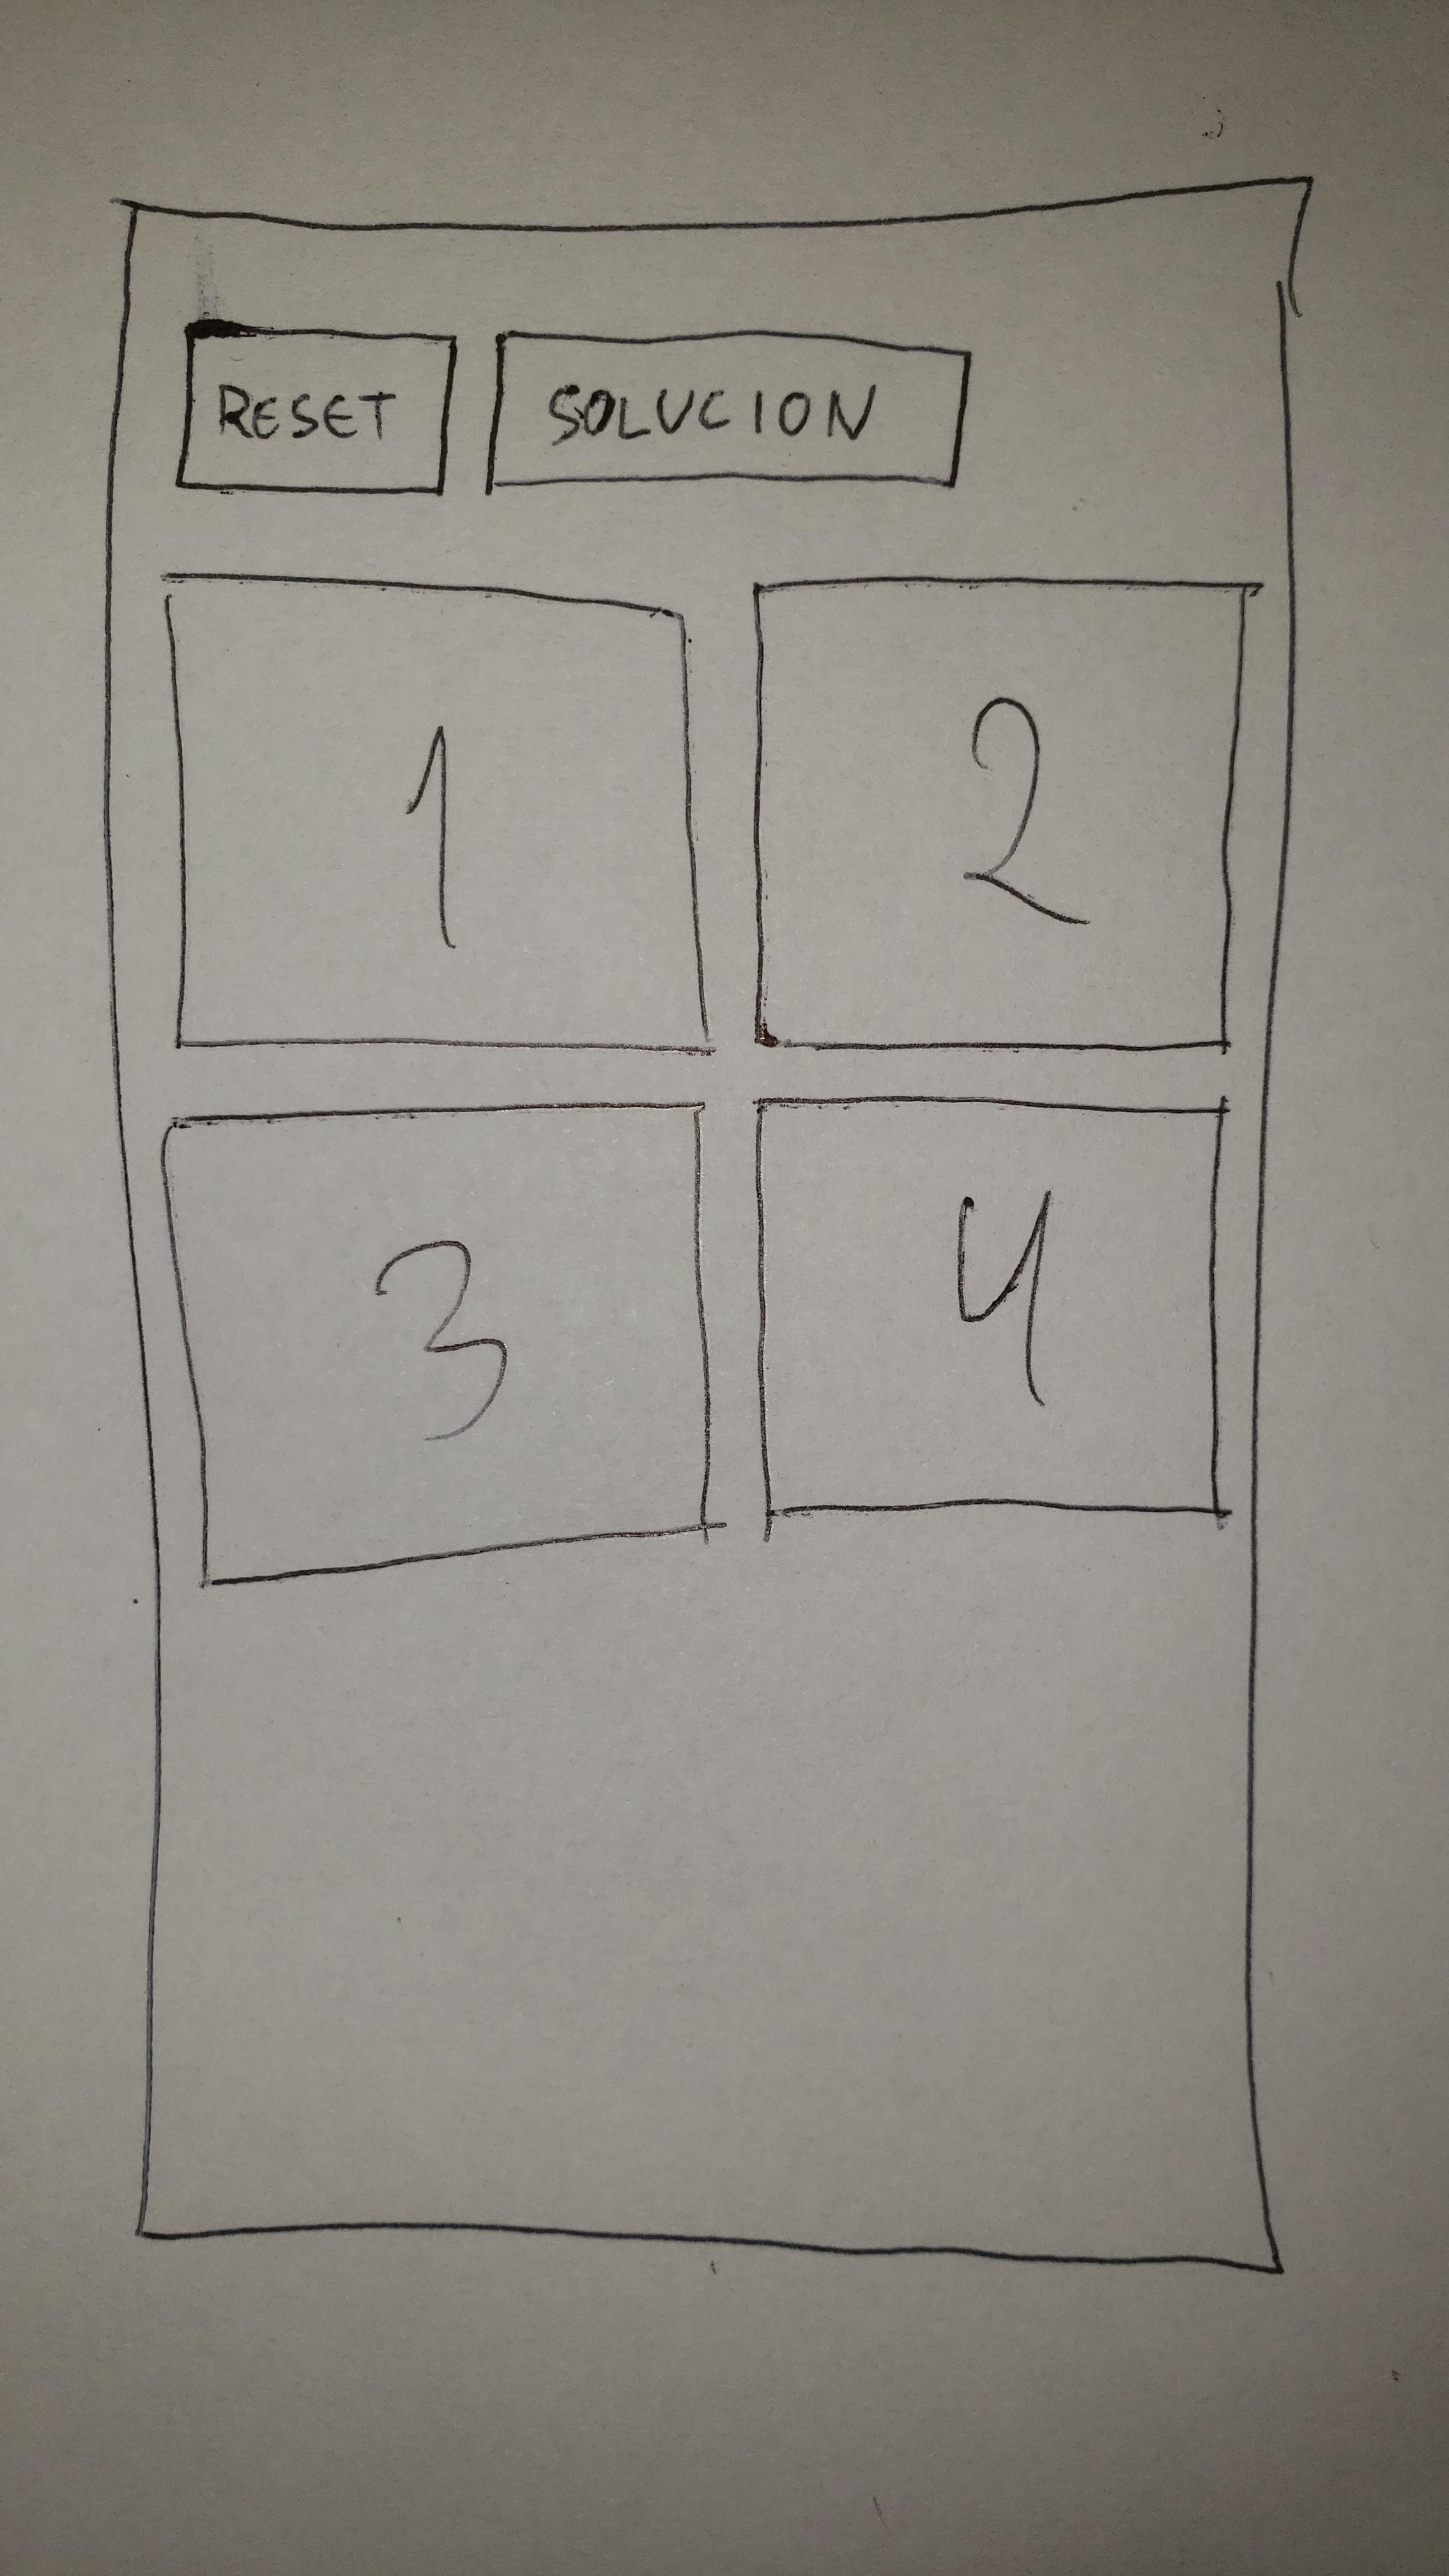Button: (163, 570, 715, 1054), (163, 1104, 704, 1585), (755, 575, 1244, 1051), (757, 1095, 1223, 1514), (483, 329, 971, 494), (173, 320, 456, 494)
Screen: (104, 177, 1313, 2273)
